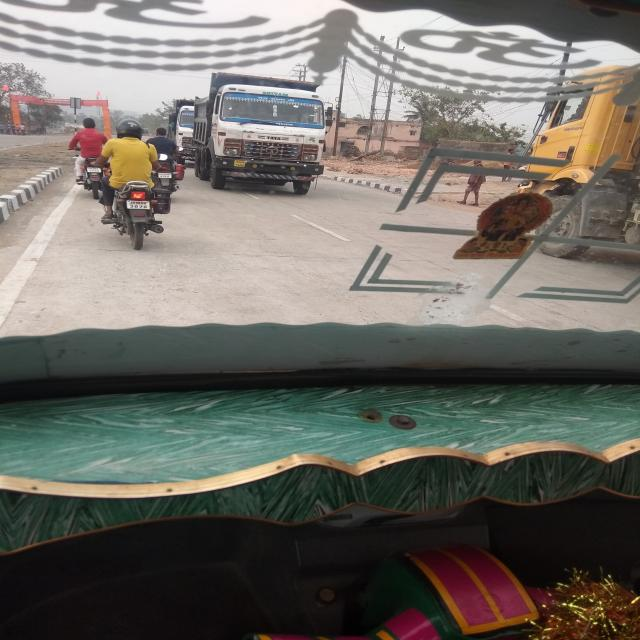Bike: (103, 156, 164, 257), (80, 115, 111, 202), (154, 144, 184, 196)
Truck: (510, 47, 640, 278), (190, 73, 336, 195), (166, 98, 207, 168)
